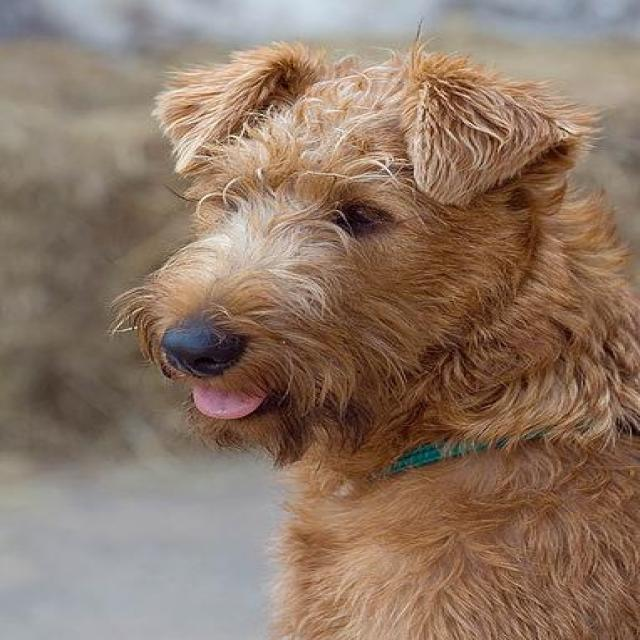adult_dog: (99, 22, 640, 640)
